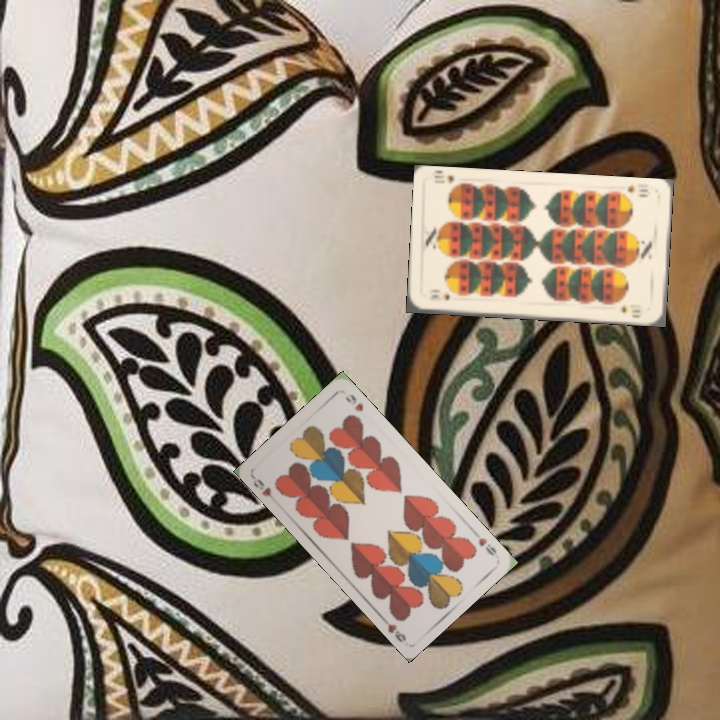H9: (469, 526, 499, 559), (250, 475, 274, 499)
S10: (623, 181, 653, 200), (425, 290, 452, 303)
